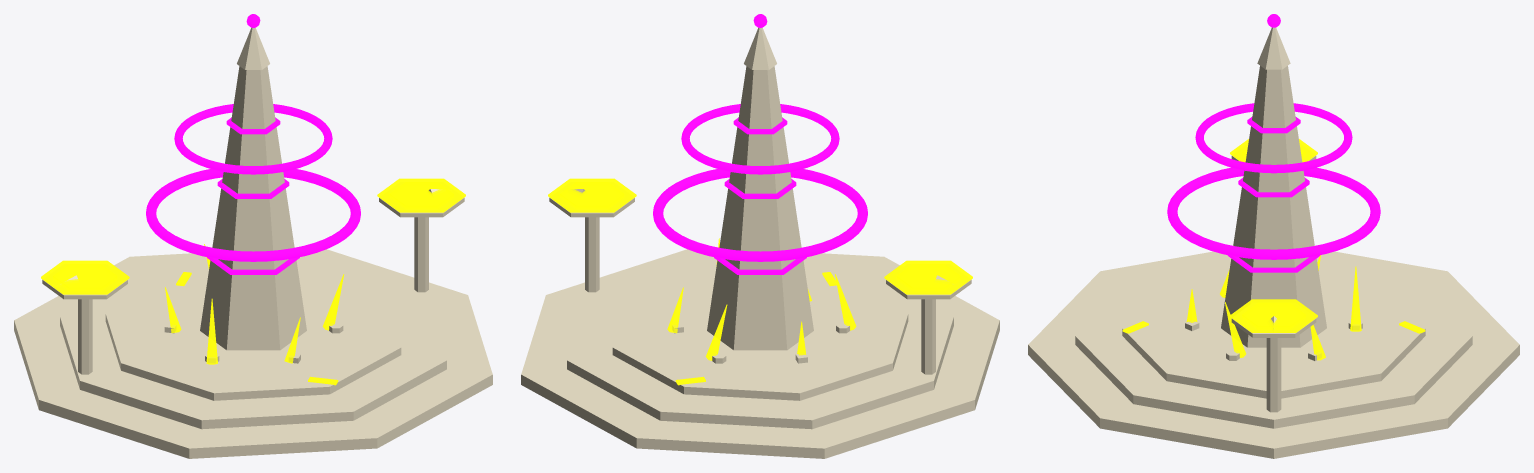
Rendered from solar_singularity_nexus.glb.
3 renders of one model, left to right at view 1: azimuth 30°, elevation 25°; view 2: azimuth 150°, elevation 25°; view 3: azimuth 270°, elevation 25°, orthographic.
Visible parts, largest first — view 1: SolarSingularityNexus; view 2: SolarSingularityNexus; view 3: SolarSingularityNexus.
Boxes of the visible parts, <box> form: SolarSingularityNexus: <box>14,14,492,458</box>; SolarSingularityNexus: <box>521,14,999,458</box>; SolarSingularityNexus: <box>1028,14,1519,458</box>.
Size of the model in its own units: 6.48 by 4.95 by 6.48.
